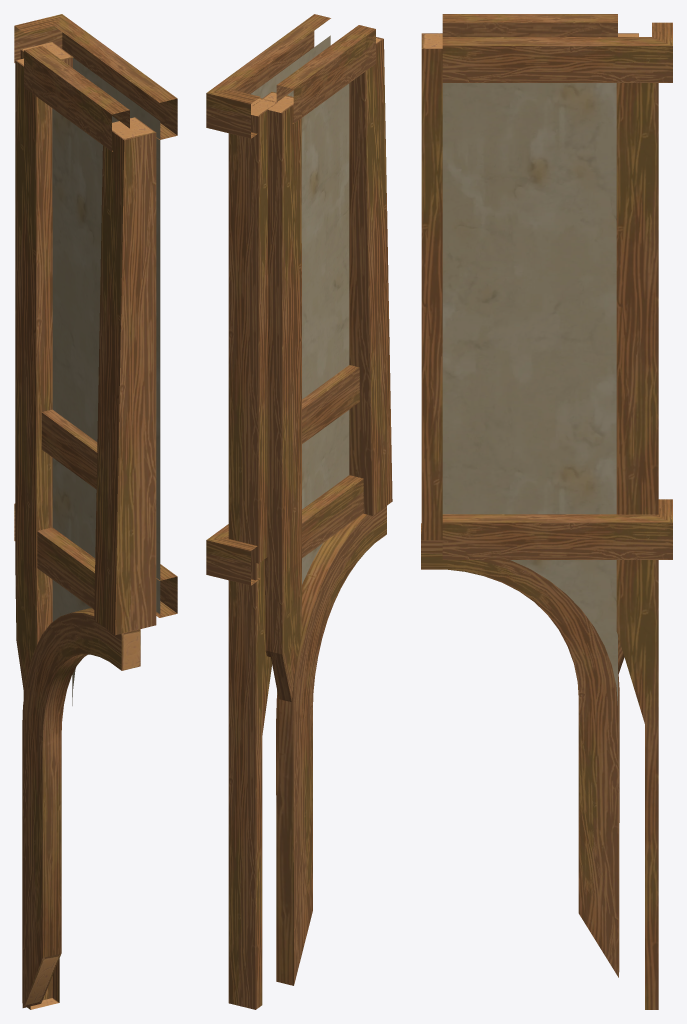
Rendered from Overhang_Side_Plaster_Short_L.gltf.
3 renders of one model, left to right at view 1: azimuth 30°, elevation 25°; view 2: azimuth 150°, elevation 25°; view 3: azimuth 270°, elevation 25°, orthographic. The views are drawn at different scales.
Visible parts, largest first — view 1: Overhang_Side_Plaster_Short_L; view 2: Overhang_Side_Plaster_Short_L; view 3: Overhang_Side_Plaster_Short_L.
Part boxes in pixels (x1,y1,x2,y2): Overhang_Side_Plaster_Short_L: [14, 14, 177, 1009]; Overhang_Side_Plaster_Short_L: [206, 14, 392, 1009]; Overhang_Side_Plaster_Short_L: [421, 14, 672, 1009].
Size of the model in its own units: 0.4793 by 6.12 by 1.44.
2 materials, 2 textured.
